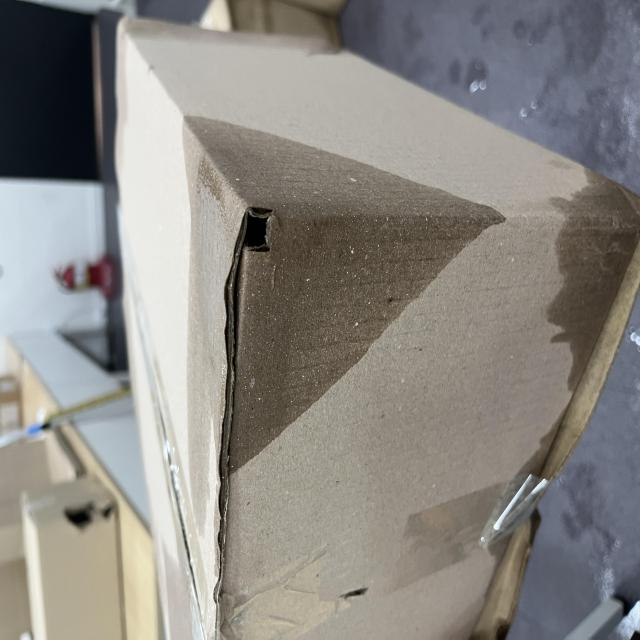wet: (107, 239, 398, 640)
